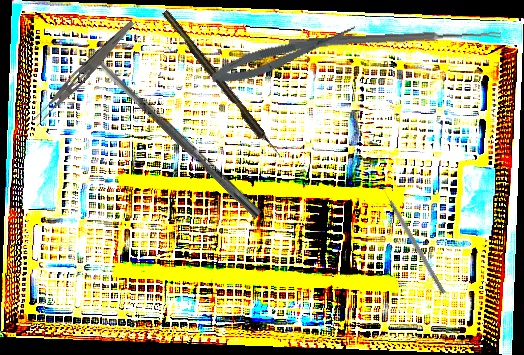Dressing Forceps: (29, 15, 137, 130)
Hook Surgical: (161, 8, 282, 160), (377, 181, 447, 295)
Micro Scissor: (208, 21, 361, 90)
Surgical Spoon: (87, 48, 263, 219), (288, 28, 502, 50)
